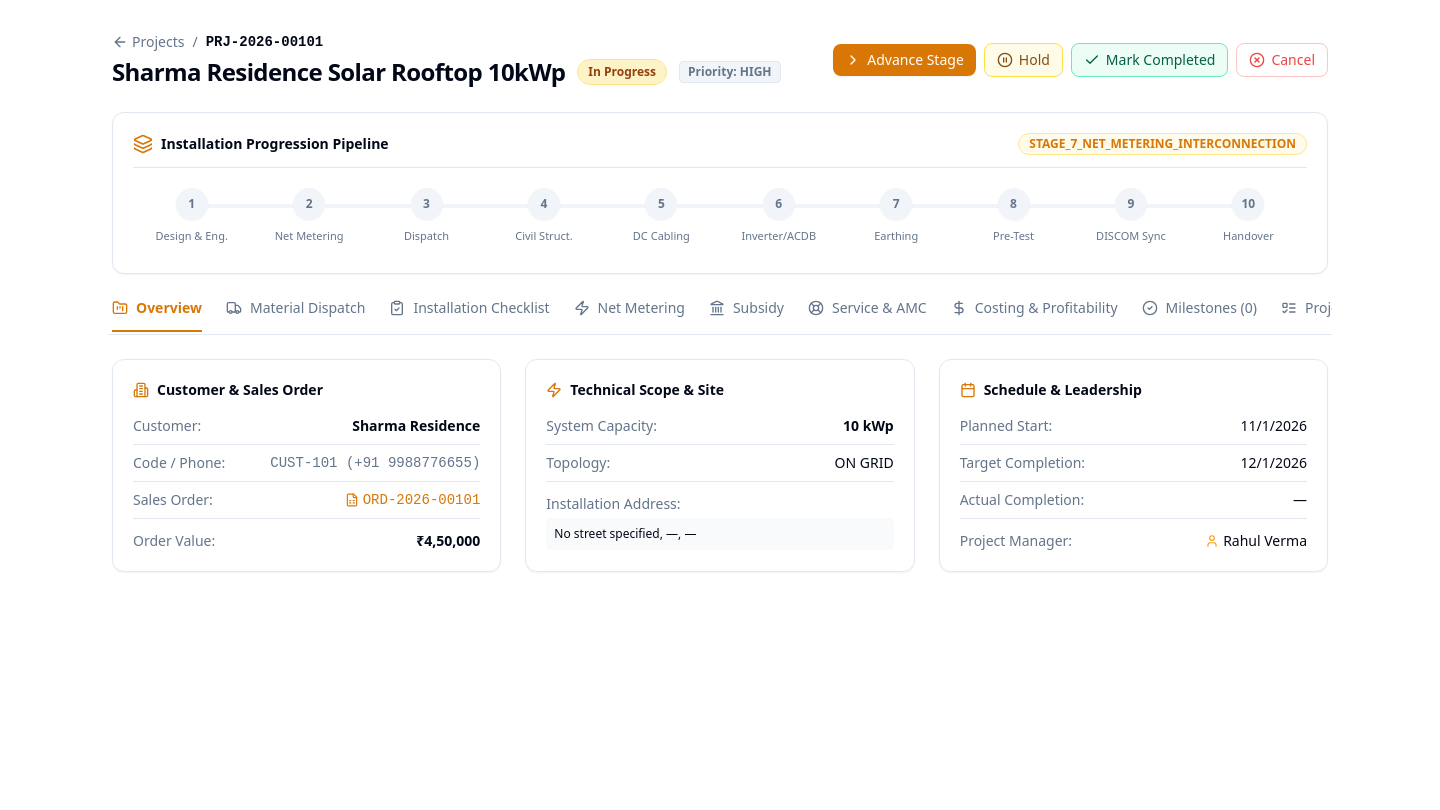
Scenario: Phase 7A Frontend: Net Metering & Subsidy Tracking › renders Subsidy tab within ProjectDetailPage with paise financial ledger
Expected: the heading "Sharma Residence Solar Rooftop 10kWp" is shown, [112, 56, 565, 88]
# Click Subsidy tab
What coordinates should you click on to do the following:
click the button "Subsidy"
I would click on:
 (746, 314)
Its box is [709, 298, 784, 332].
(page scrolled)
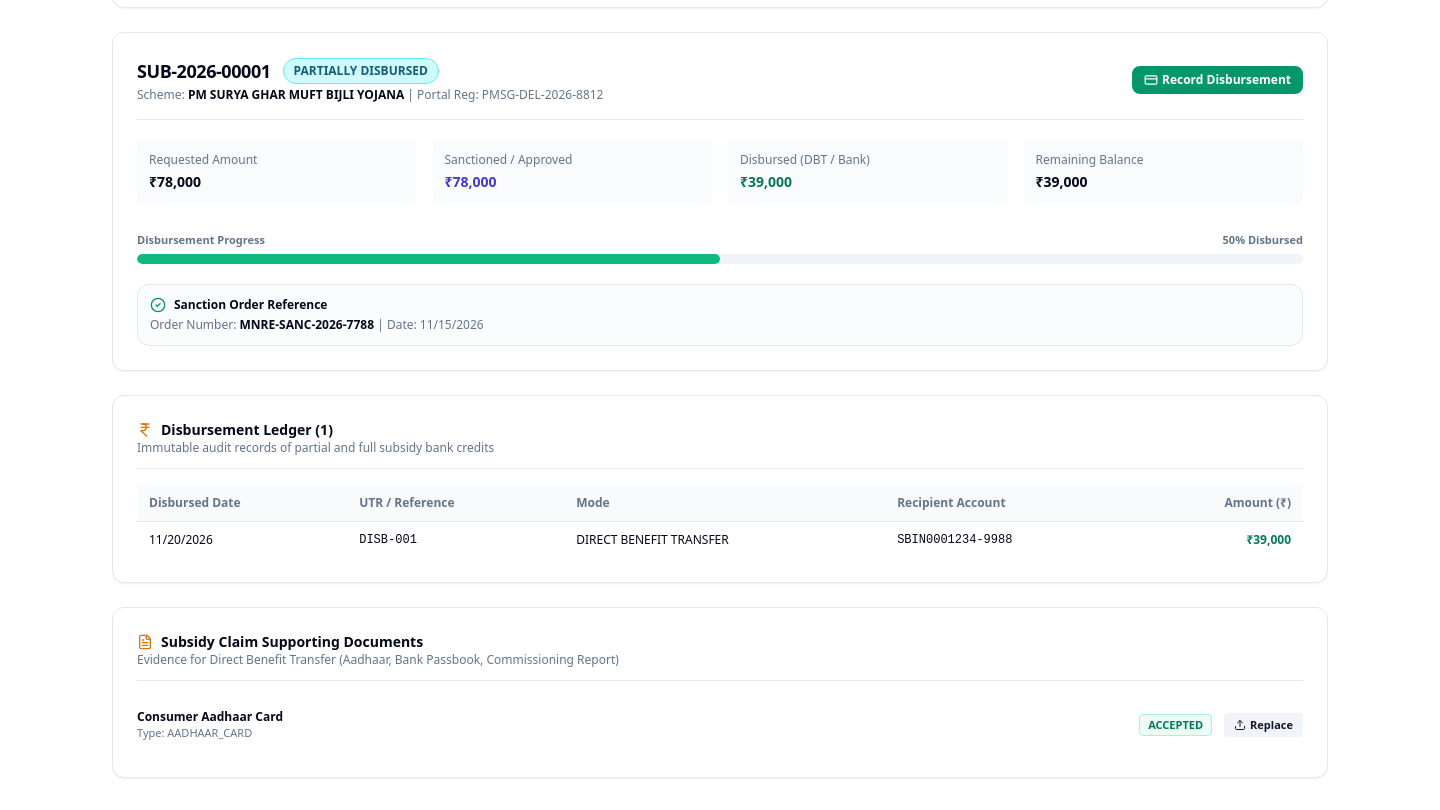
Now the text "SUB-2026-00001" is shown, box [137, 56, 271, 84]
Now the text "DISB-001" is shown, box [347, 522, 564, 558]
